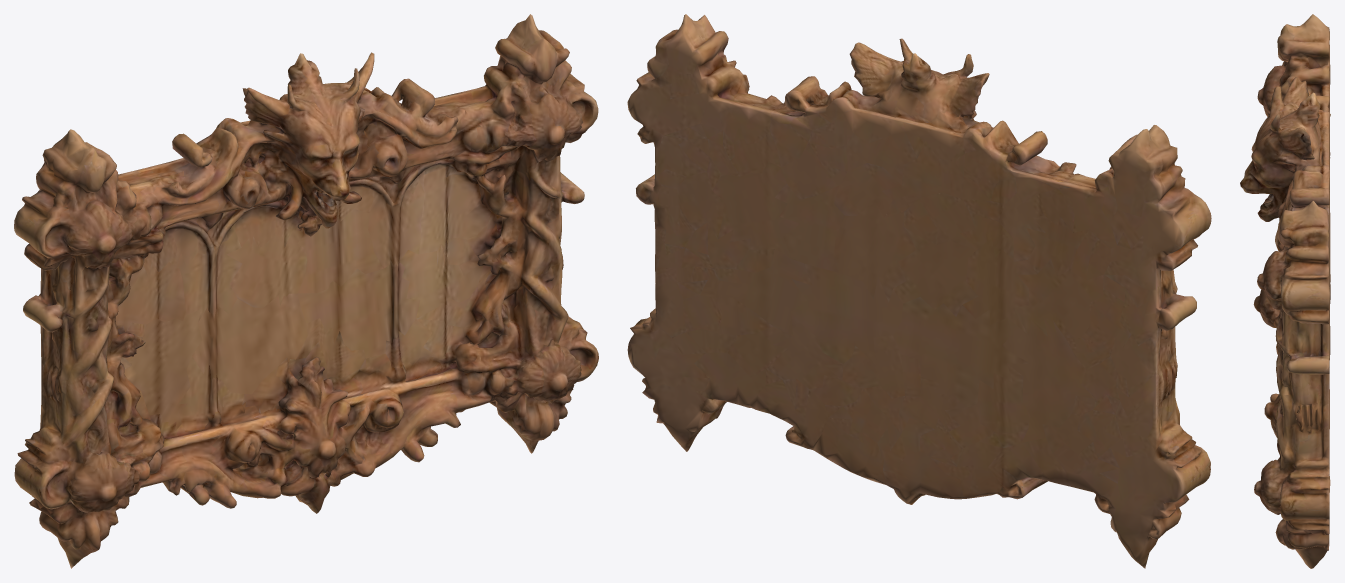
3 views of the same model, side by side, from view 1: azimuth 30°, elevation 25°; view 2: azimuth 150°, elevation 25°; view 3: azimuth 270°, elevation 25° (orthographic). The views are drawn at different scales.
Size of the model in its own units: 2 by 1.57 by 0.3352.
1 material, 1 textured.
